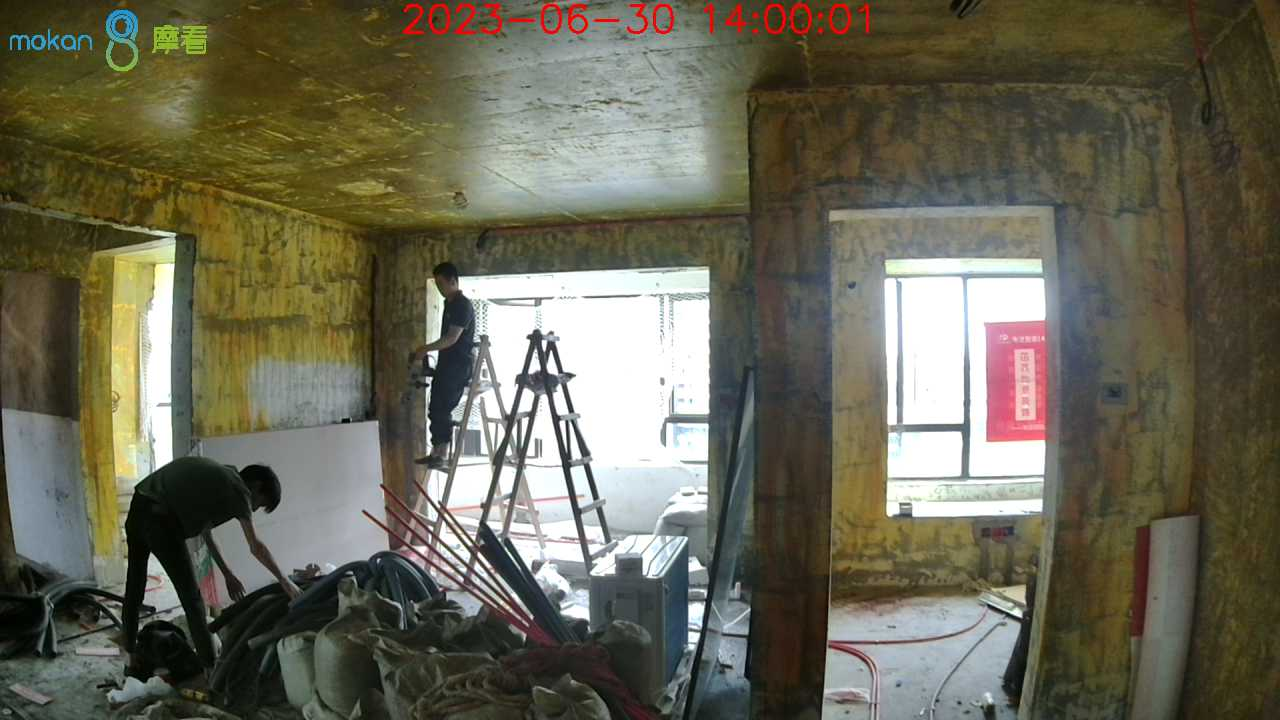people: (130, 455, 293, 670), (414, 261, 477, 473)
window: (426, 274, 708, 465), (884, 266, 1052, 502)
